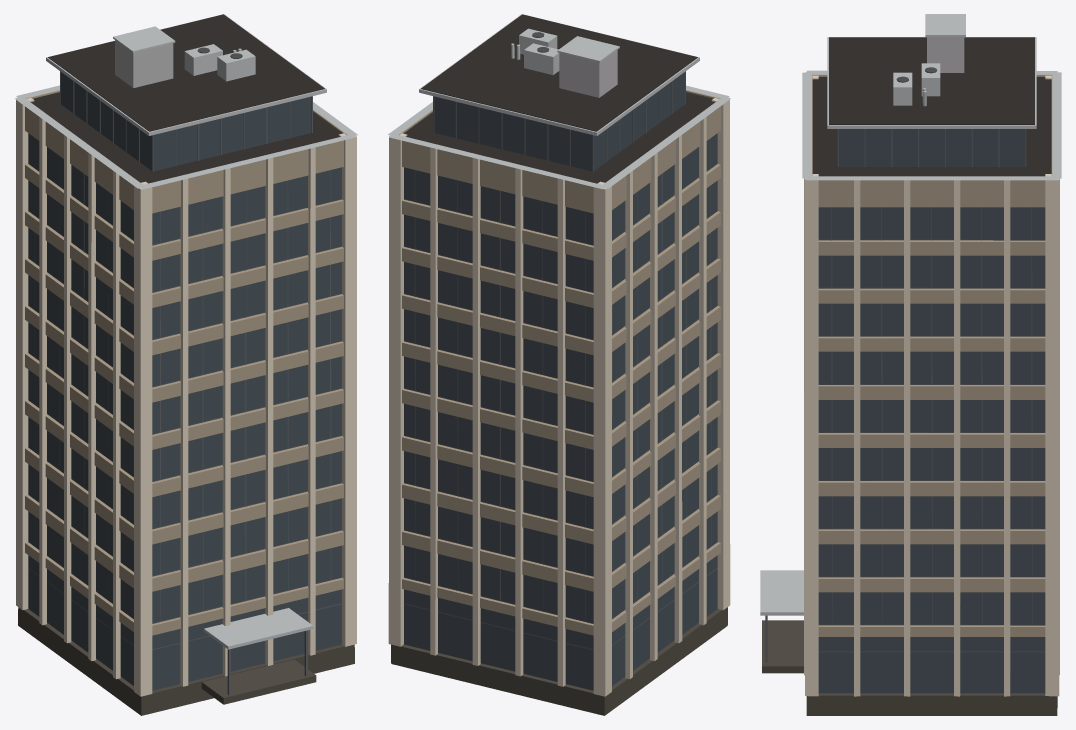
File: office-ribbon-lod1.glb
3 views of the same model, side by side, from view 1: azimuth 30°, elevation 25°; view 2: azimuth 150°, elevation 25°; view 3: azimuth 270°, elevation 25° (orthographic).
Parts seen in each view (by area): view 1: office-ribbon-plaster0.001; view 2: office-ribbon-plaster0.001; view 3: office-ribbon-plaster0.001.
Part boxes in pixels (bbox=[...]): office-ribbon-plaster0.001: bbox=[15, 14, 357, 715]; office-ribbon-plaster0.001: bbox=[388, 14, 730, 715]; office-ribbon-plaster0.001: bbox=[760, 14, 1061, 715].
Size of the model in its own units: 16.6 by 43.85 by 19.3.
